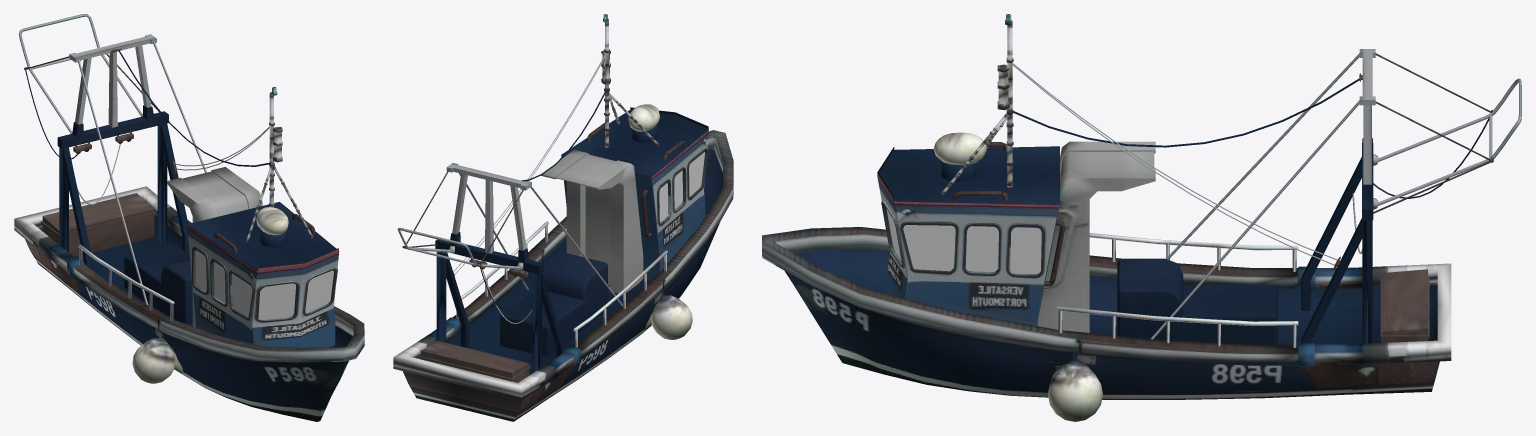
The model's file is SM_boat2.fbx.
3 views of the same model, side by side, from view 1: azimuth 30°, elevation 25°; view 2: azimuth 150°, elevation 25°; view 3: azimuth 270°, elevation 25° (orthographic). The views are drawn at different scales.
Visible parts, largest first — view 1: boat_2; view 2: boat_2; view 3: boat_2.
Part boxes in pixels (box(x1,y1,x2,y2)): boat_2: box(14, 14, 364, 421); boat_2: box(393, 14, 733, 421); boat_2: box(762, 14, 1521, 421).
Bounding box in the file's own units: 833 × 1253 × 2324.
